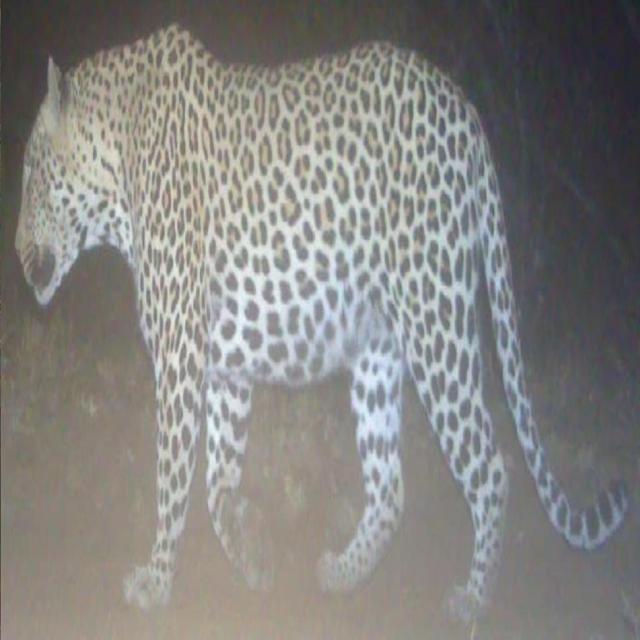Leopard: (24, 47, 635, 640)
